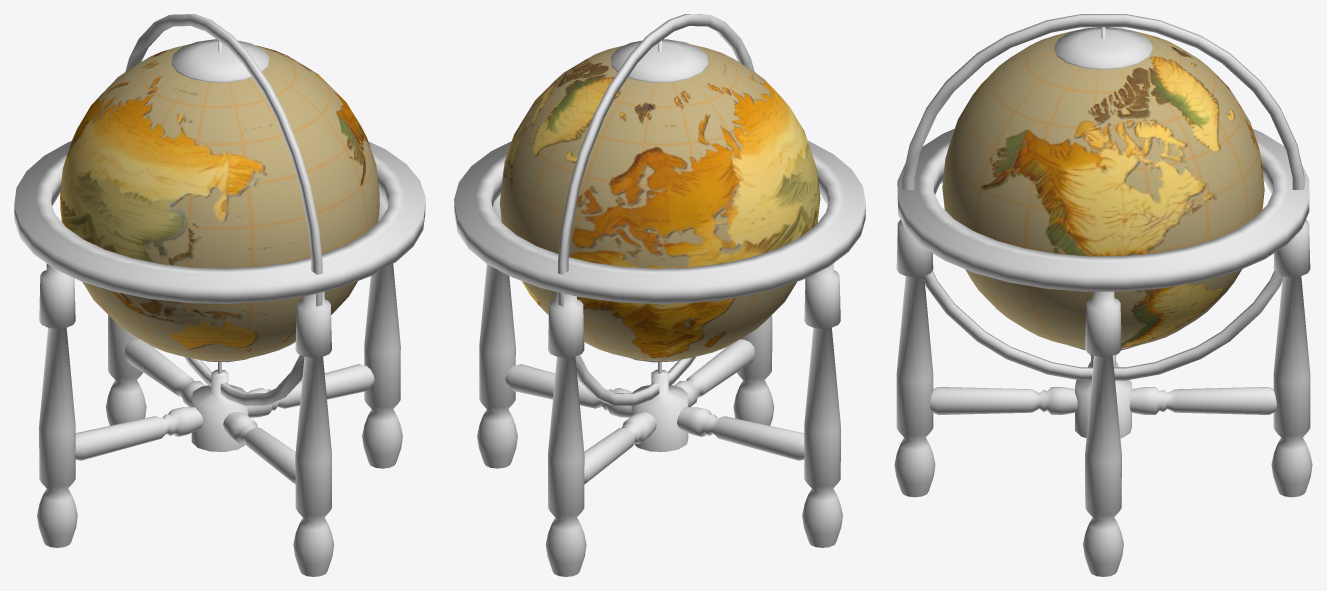
Rendered from Globe.fbx.
3 renders of one model, left to right at view 1: azimuth 30°, elevation 25°; view 2: azimuth 150°, elevation 25°; view 3: azimuth 270°, elevation 25°, orthographic.
Parts seen in each view (by area): view 1: Globe, Globe_sphere; view 2: Globe, Globe_sphere; view 3: Globe, Globe_sphere.
Boxes of the visible parts, bbox=[...] form: Globe: bbox=[14, 14, 425, 576]; Globe_sphere: bbox=[60, 44, 379, 361]; Globe: bbox=[454, 14, 865, 576]; Globe_sphere: bbox=[499, 44, 820, 361]; Globe: bbox=[894, 14, 1312, 576]; Globe_sphere: bbox=[942, 29, 1264, 348].
Size of the model in its own units: 0.5884 by 0.7395 by 0.5884.
